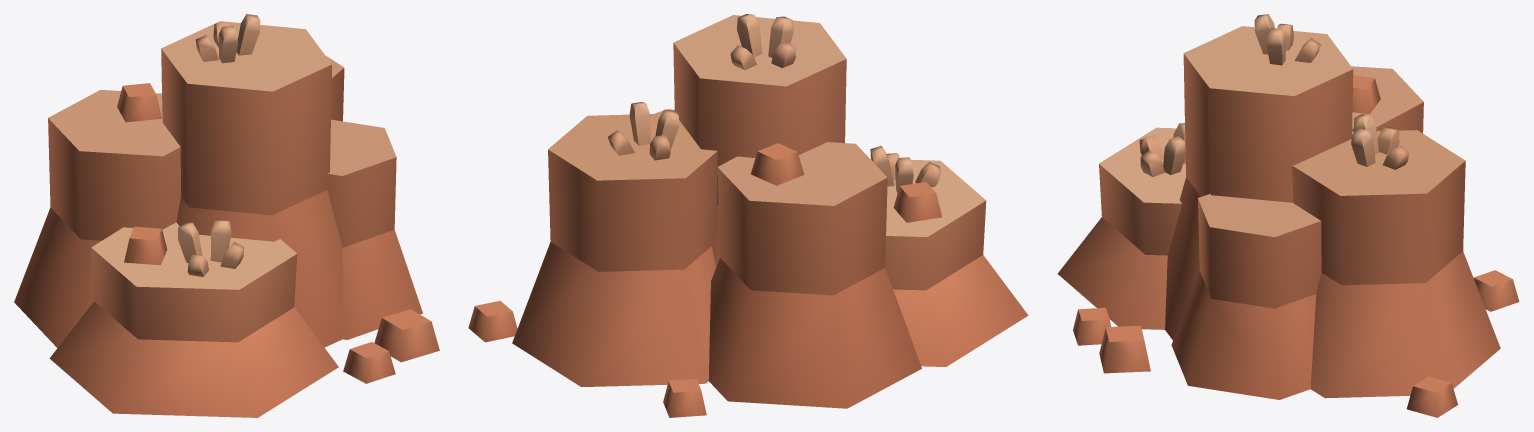
File: pk_rocks-sand-c.glb
The picture shows the model from 3 angles, left to right: view 1: azimuth 30°, elevation 25°; view 2: azimuth 150°, elevation 25°; view 3: azimuth 270°, elevation 25°; orthographic projection. The views are drawn at different scales.
Visible parts, largest first — view 1: rocks-sand-c; view 2: rocks-sand-c; view 3: rocks-sand-c.
Boxes of the visible parts, x1,y1,x2,y2 form: rocks-sand-c: (14, 14, 439, 417); rocks-sand-c: (468, 14, 1028, 417); rocks-sand-c: (1057, 14, 1519, 417).
Bounding box in the file's own units: 3.71 × 2.61 × 3.72.
1 material, 1 textured.
